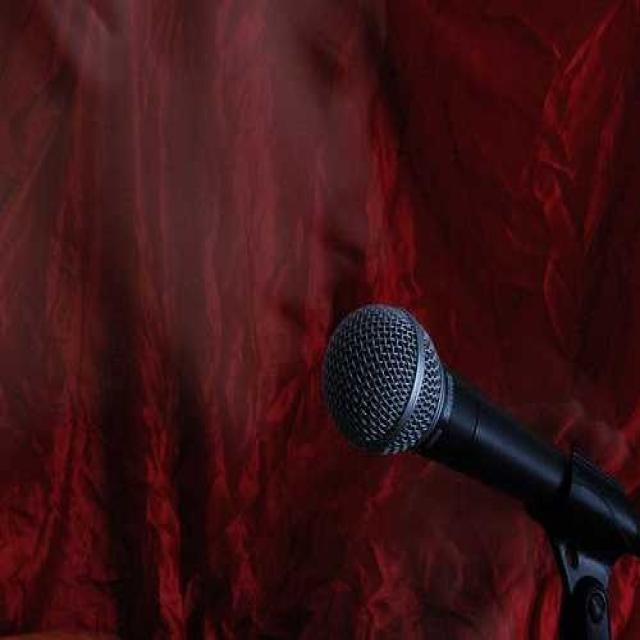microphone: (322, 301, 632, 567)
